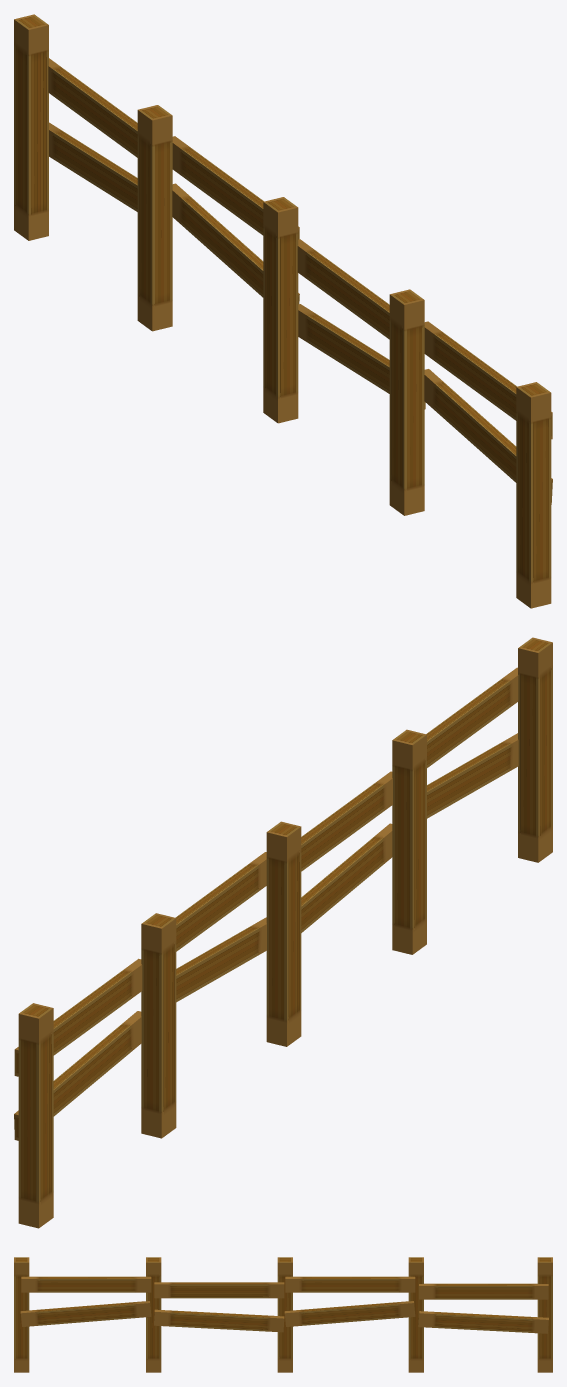
The model's file is fence.FBX.
3 views of the same model, one above another, from view 1: azimuth 30°, elevation 25°; view 2: azimuth 150°, elevation 25°; view 3: azimuth 270°, elevation 25° (orthographic). The views are drawn at different scales.
Parts seen in each view (by area): view 1: Box146, Box152, Box155, Box149, Box143, Box154, Box148, Box153, Box151, Box147, Box150, Box145 (+1 smaller); view 2: Box143, Box149, Box146, Box155, Box152, Box144, Box150, Box145, Box151, Box153, Box147, Box154 (+1 smaller); view 3: Box147, Box151, Box153, Box145, Box144, Box150, Box154, Box148, Box155, Box143, Box146, Box152 (+1 smaller).
Boxes of the visible parts, bbox=[...] form: Box146: bbox=[137, 105, 172, 331]; Box152: bbox=[389, 289, 424, 515]; Box155: bbox=[516, 382, 551, 608]; Box149: bbox=[263, 197, 298, 423]; Box143: bbox=[14, 14, 48, 240]; Box154: bbox=[424, 369, 552, 504]; Box148: bbox=[172, 183, 299, 304]; Box153: bbox=[424, 321, 552, 439]; Box151: bbox=[297, 239, 389, 339]; Box147: bbox=[172, 136, 299, 239]; Box150: bbox=[298, 304, 425, 409]; Box145: bbox=[48, 58, 137, 157]; Box143: bbox=[18, 1003, 53, 1228]; Box149: bbox=[266, 821, 301, 1046]; Box146: bbox=[141, 913, 176, 1138]; Box155: bbox=[518, 637, 552, 862]; Box152: bbox=[392, 729, 426, 954]; Box144: bbox=[14, 1011, 141, 1140]; Box150: bbox=[301, 823, 392, 932]; Box145: bbox=[14, 958, 142, 1076]; Box151: bbox=[301, 771, 392, 871]; Box153: bbox=[426, 667, 518, 767]; Box147: bbox=[175, 852, 266, 951]; Box154: bbox=[427, 733, 518, 818]; Box147: bbox=[285, 1276, 415, 1292]; Box151: bbox=[154, 1282, 284, 1298]; Box153: bbox=[21, 1276, 151, 1292]; Box145: bbox=[419, 1283, 548, 1299]; Box144: bbox=[418, 1311, 548, 1333]; Box150: bbox=[154, 1309, 284, 1332]; Box154: bbox=[20, 1301, 151, 1326]; Box148: bbox=[284, 1301, 415, 1326]; Box155: bbox=[14, 1257, 29, 1372]; Box143: bbox=[537, 1257, 552, 1372]; Box146: bbox=[408, 1257, 423, 1372]; Box152: bbox=[146, 1257, 161, 1372].
Size of the model in its own units: 0.9889 by 6.88 by 30.57.
13 materials, 13 textured.
